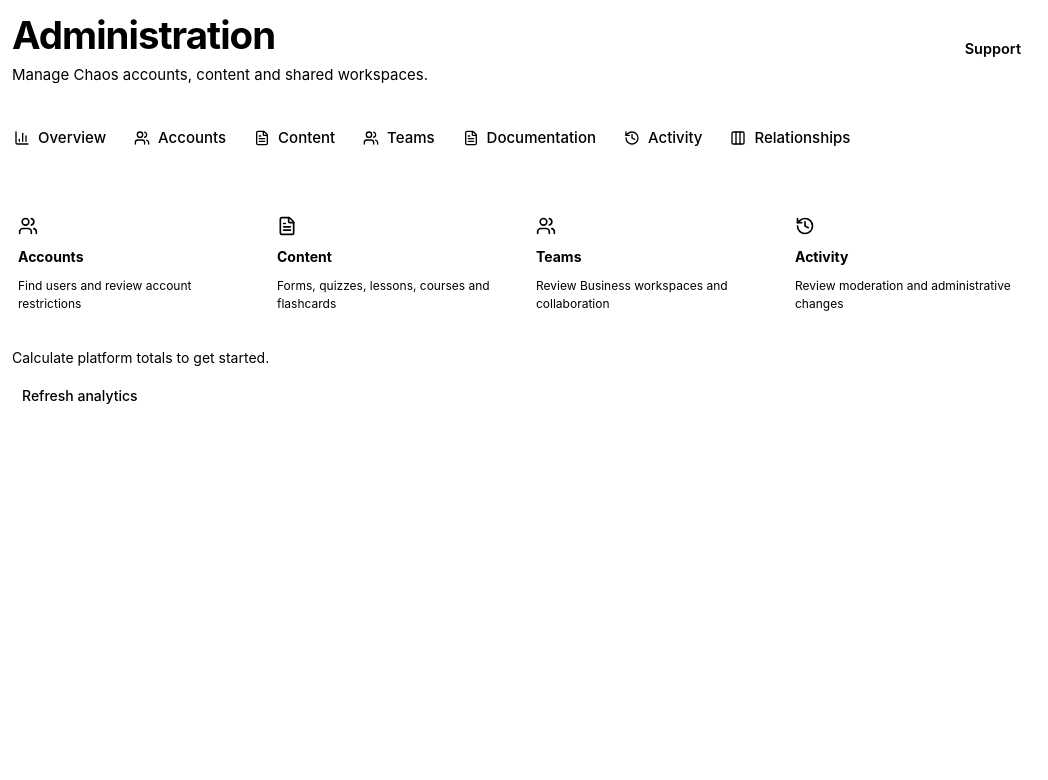
Test case: removes plan controls and adds accounts to persistent CRM
Click the tab "Accounts" at (180, 138), box [132, 115, 228, 162]
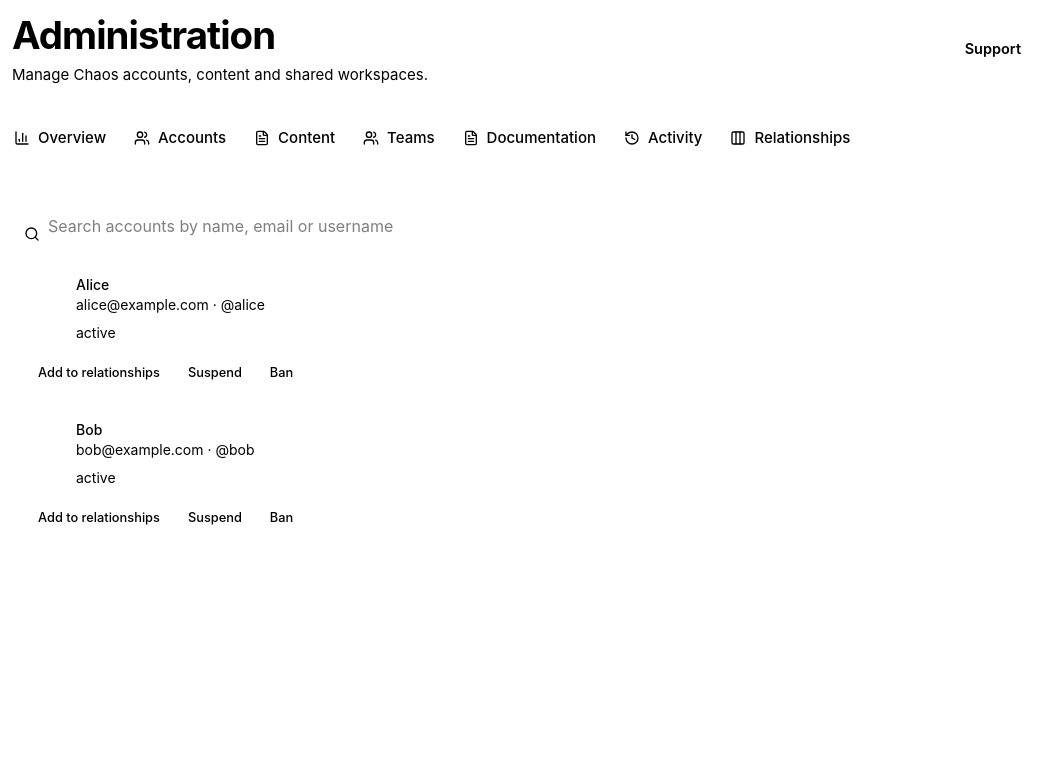
Click the button "Add to relationships" below "alice@example.com" at (99, 373), box [28, 359, 170, 387]
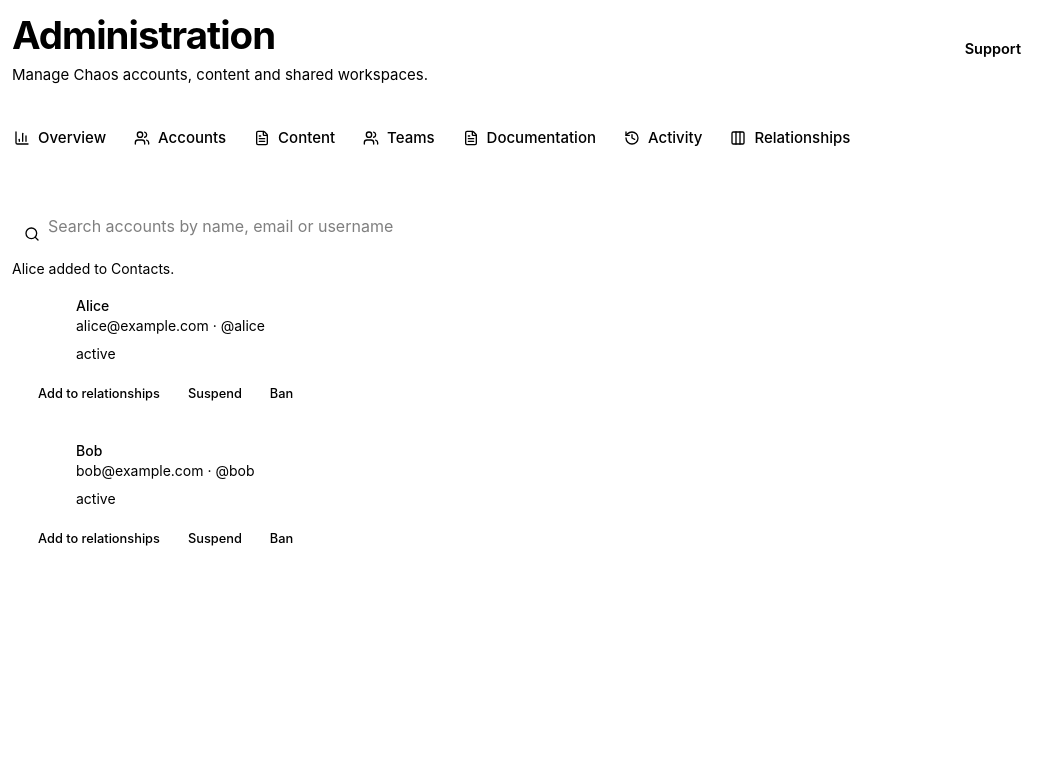
Now the text "Alice added to Contacts." is shown, box [12, 260, 174, 277]
